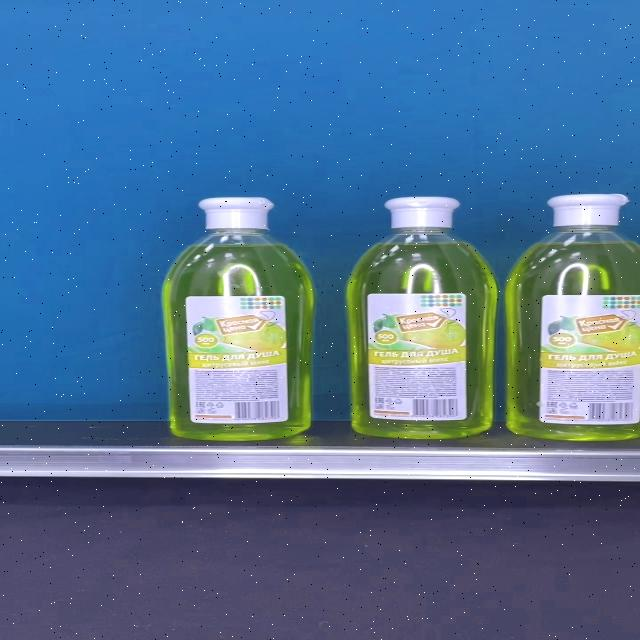Bottle: (163, 196, 314, 440), (347, 196, 497, 439), (505, 193, 640, 441)
Cap: (548, 193, 630, 227), (383, 196, 461, 229), (198, 197, 275, 230)
